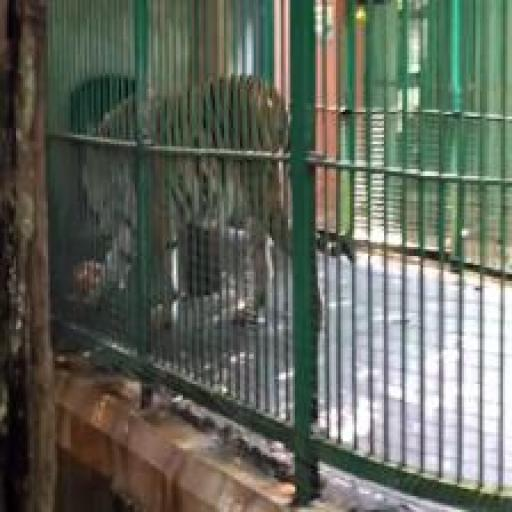Tiger: (59, 57, 328, 400)
